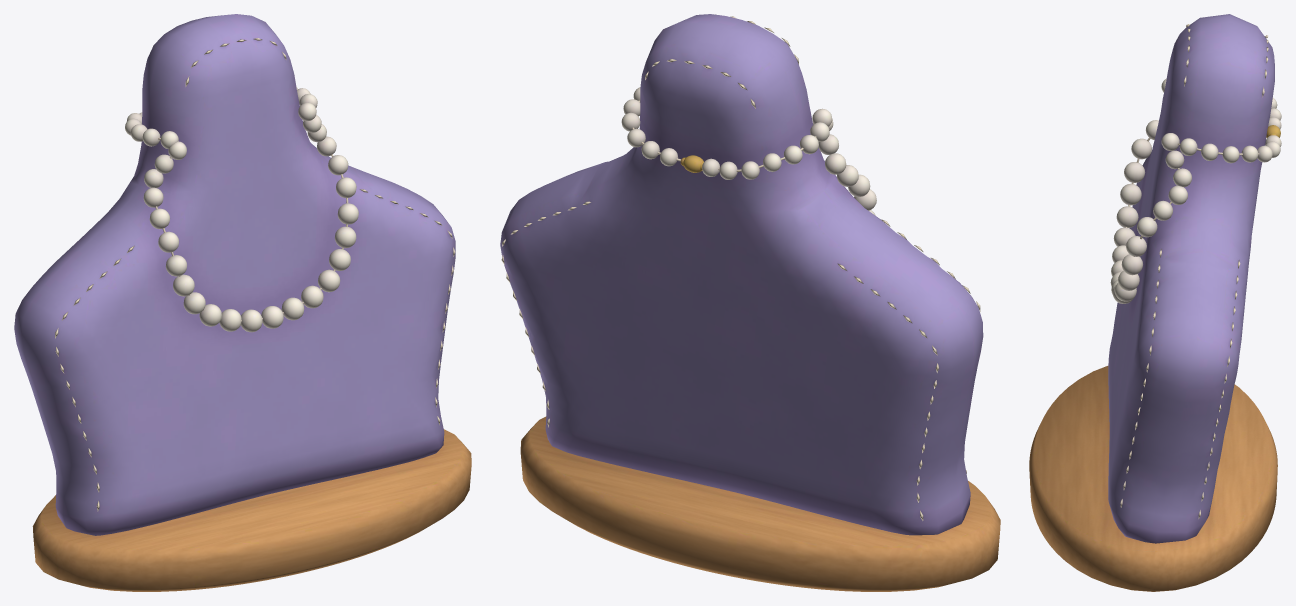
File: necklace.glb
The picture shows the model from 3 angles, left to right: view 1: azimuth 30°, elevation 25°; view 2: azimuth 150°, elevation 25°; view 3: azimuth 270°, elevation 25°; orthographic projection. The views are drawn at different scales.
Parts seen in each view (by area): view 1: necklace_body; view 2: necklace_body; view 3: necklace_body.
Boxes of the visible parts, bbox=[...] form: necklace_body: bbox=[14, 14, 471, 591]; necklace_body: bbox=[500, 14, 1000, 591]; necklace_body: bbox=[1029, 14, 1281, 591].
Size of the model in its own units: 0.2042 by 0.2203 by 0.1067.
1 material, 1 textured.
